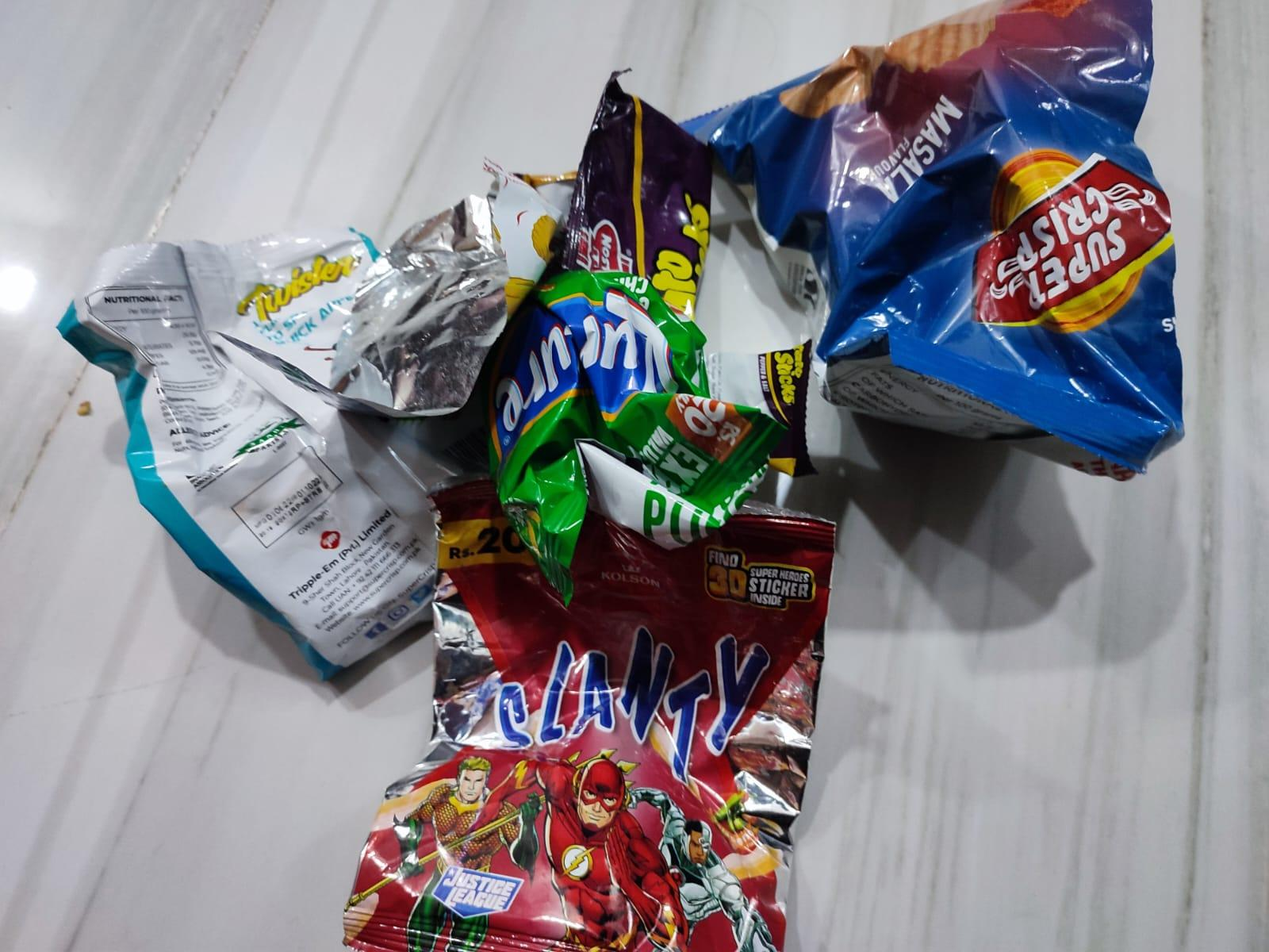garbage: (50, 0, 1241, 952)
